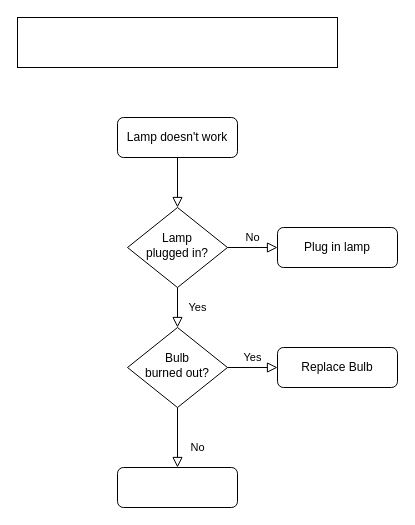
Some shapes in this 415 by 525 pixel diagram are drawn without their labels. Each missing label, with the centre of its shape:
"El Gran Gatsby" de F. Scott Fitzgerald: point 177,42
Repair Lamp: point 177,487
